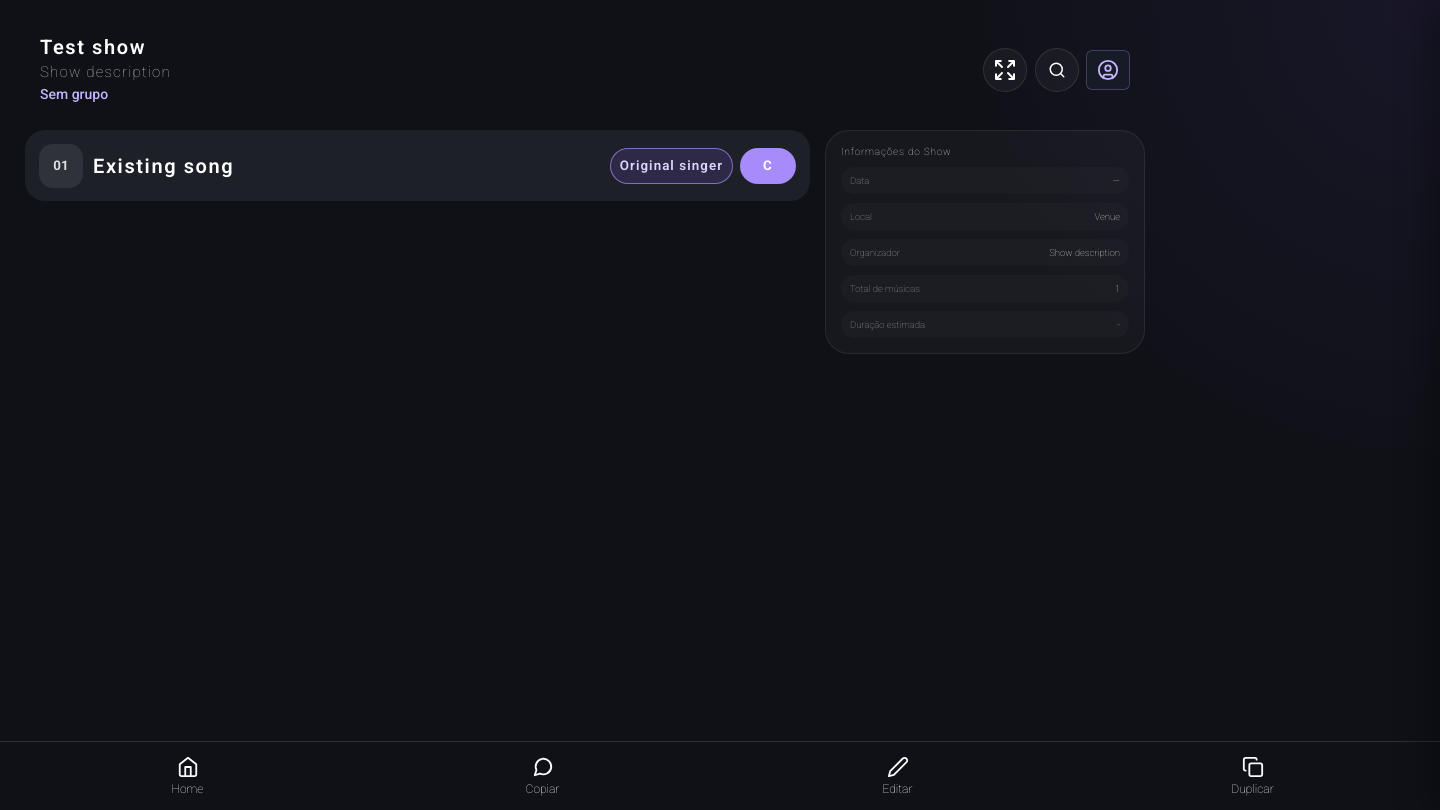
Test: SetlistPage adding songs › cancelling editing restores a removed song
The image size is (1440, 810).
Expected: the heading "Test show" is shown, [40,35,146,59]
Step 1. Click the button "Editar" → (898,776), box [720,748,1075,804]
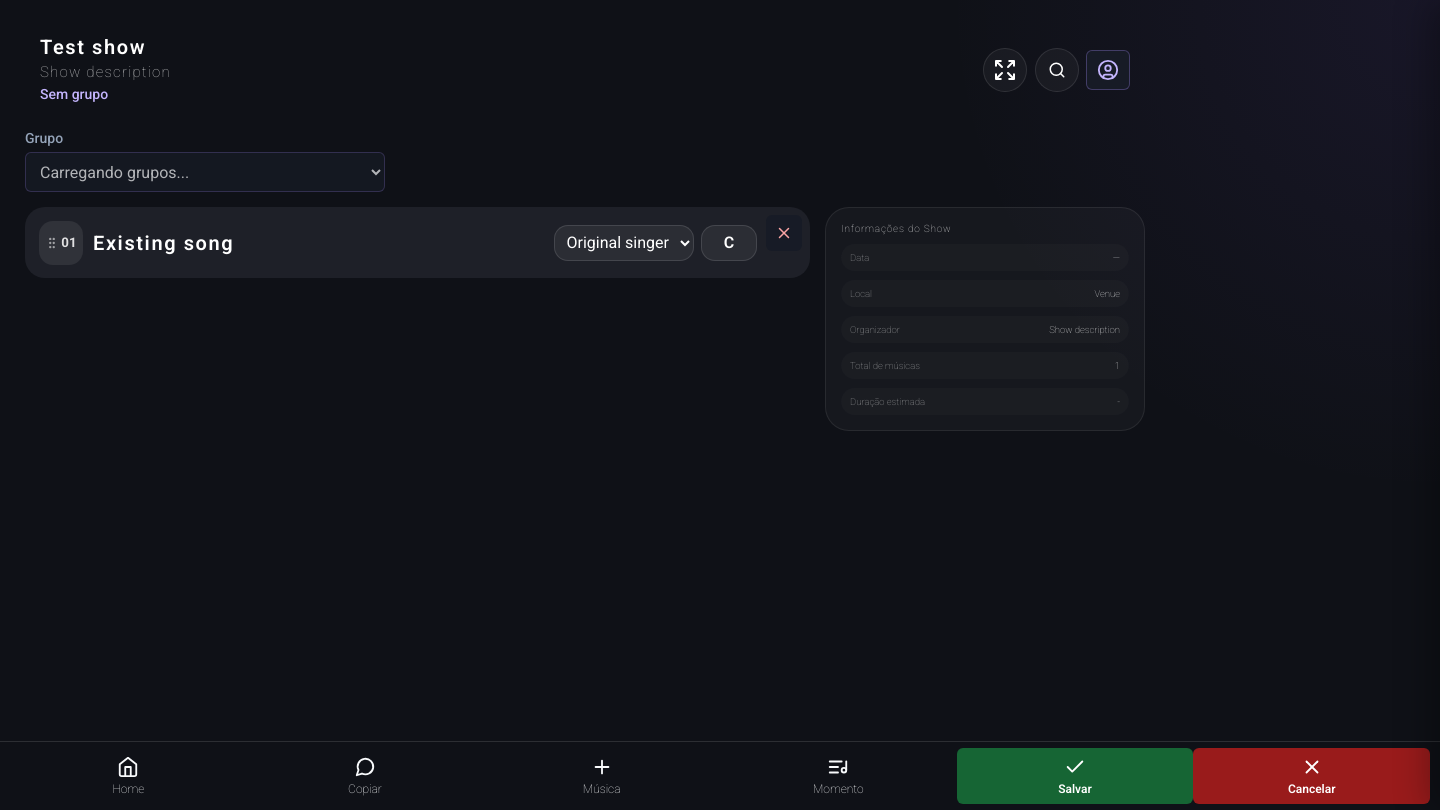
Step 2. Click the button named "Remover música 1 do setlist" → (784,233), box [766,215,802,251]
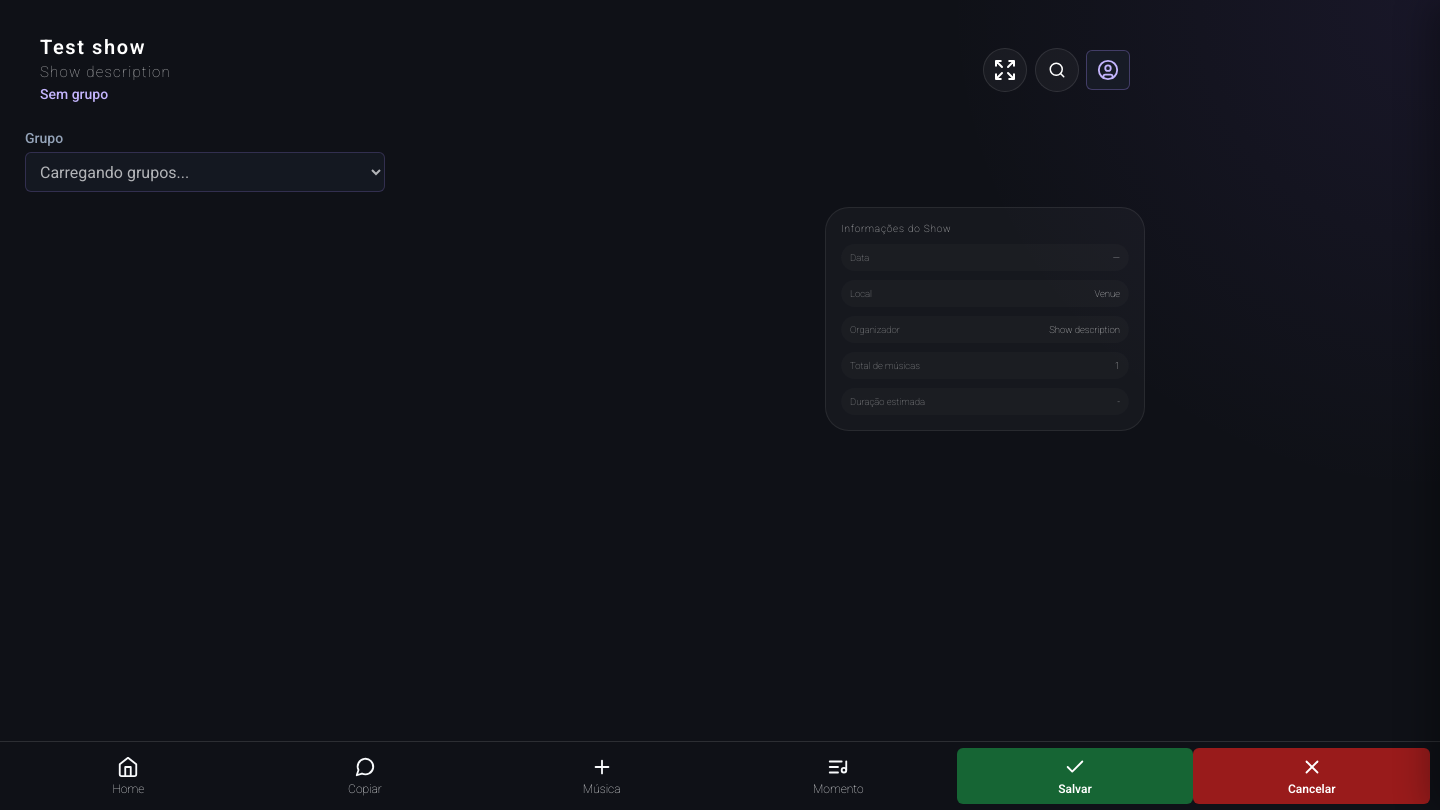
Expected: the button "Existing song" is gone
Step 3. Click the button "Cancelar" → (1312,776), box [1193,748,1430,804]
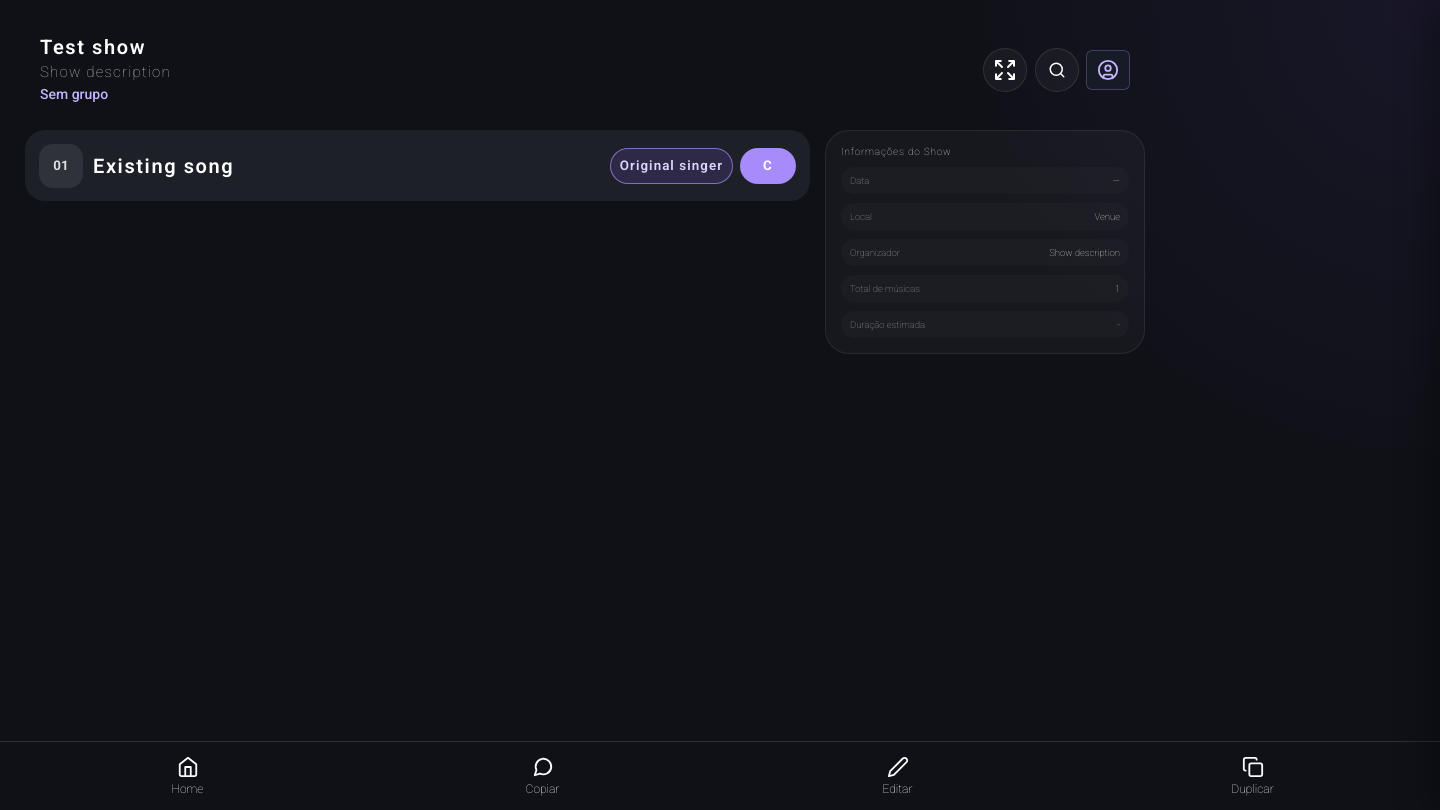
Expected: the heading "Existing song" is shown, [93,154,234,178]
